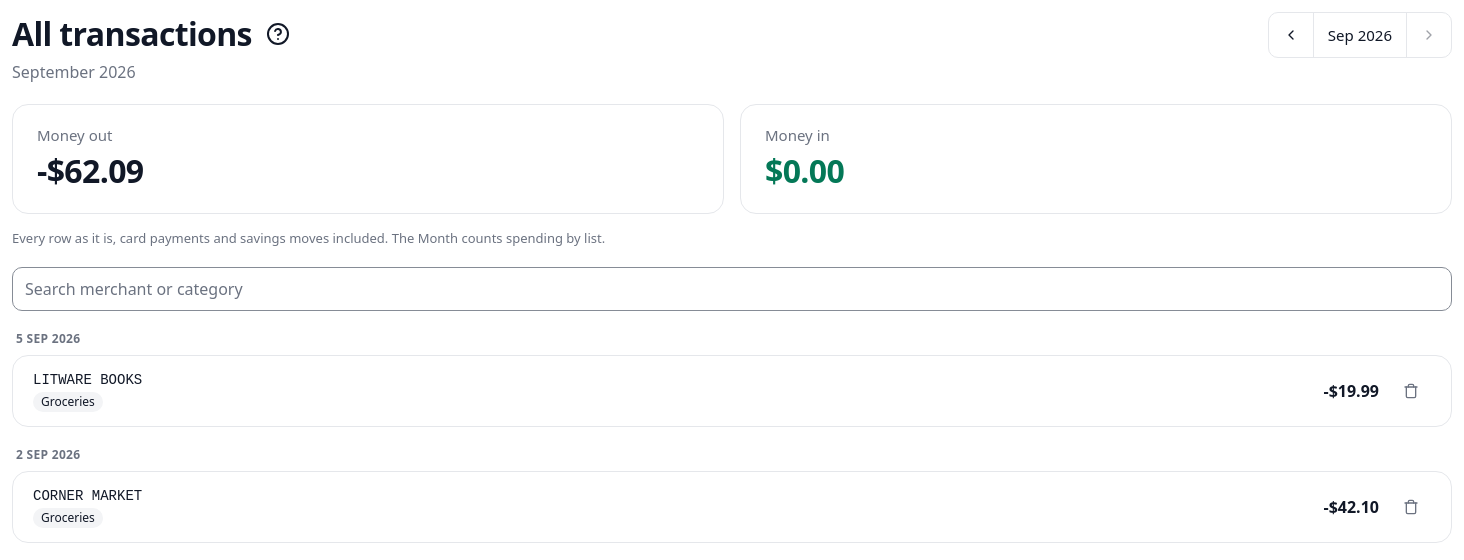
Test: LedgerScreen, changing your mind about a removal › puts the bin back when focus leaves Remove
Expected: the text "CORNER MARKET" is shown, [33,488,142,504]
Click the button named "Remove this transaction" in the row of "CORNER MARKET" at (1411, 507), box [1391,487,1431,527]
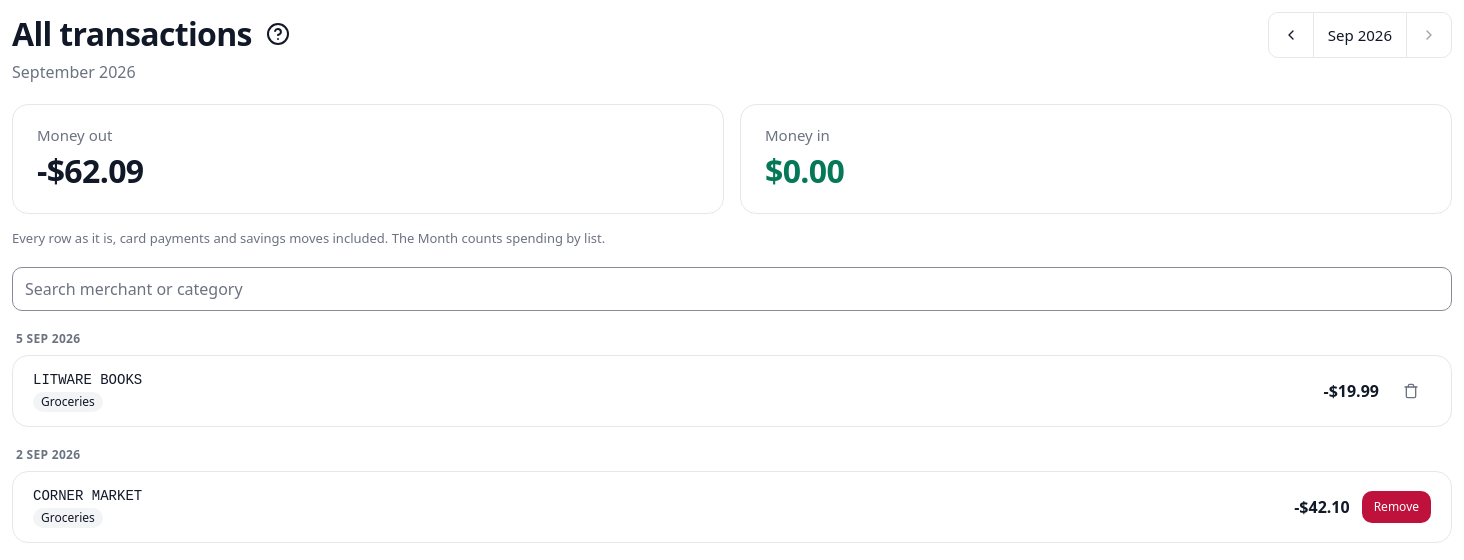
Leave the button "Remove", box [1362,491,1431,523]
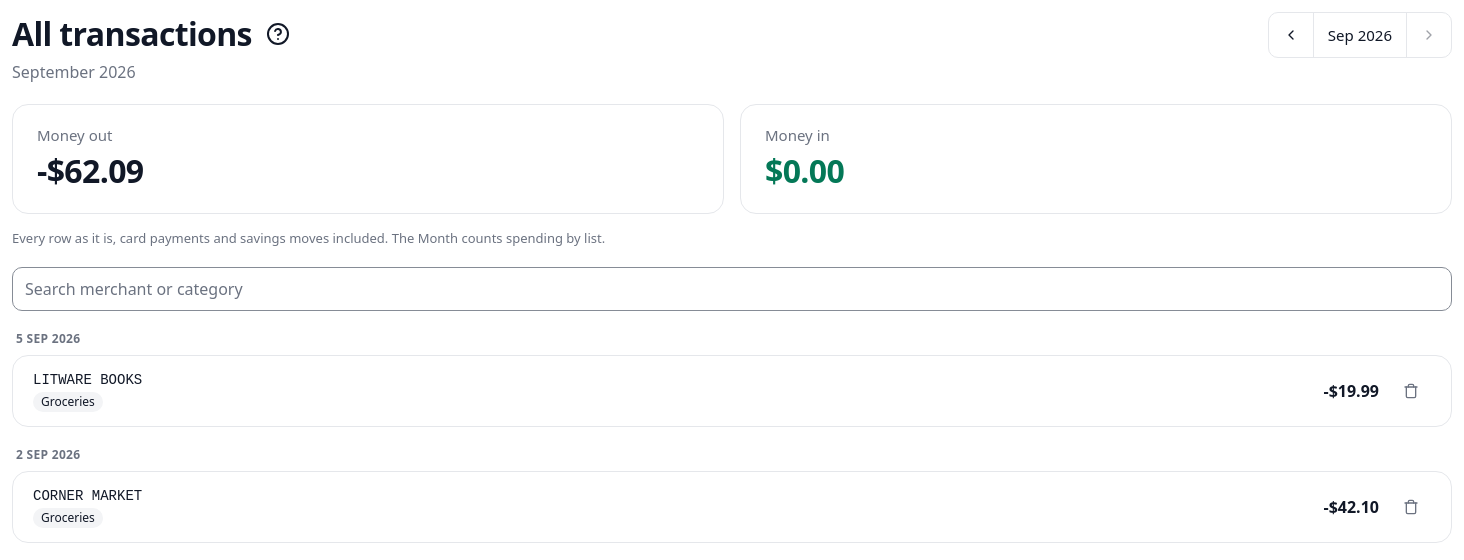
Result: the button "Remove" is gone
